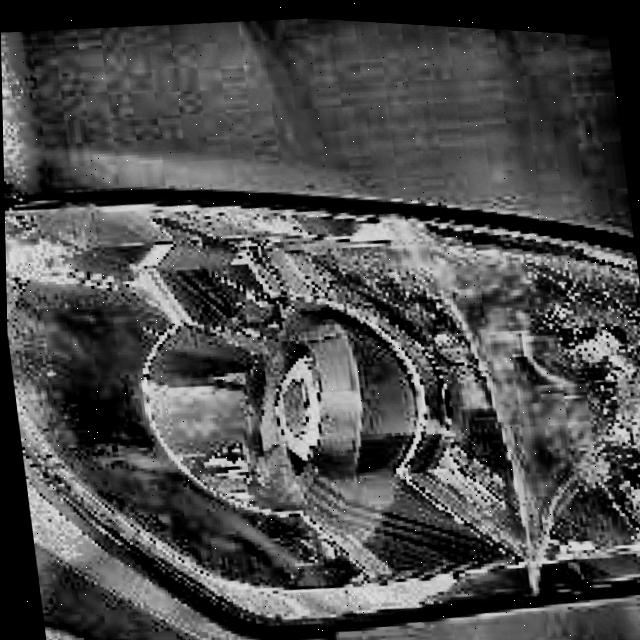head_lamp: (237, 187, 640, 612)
